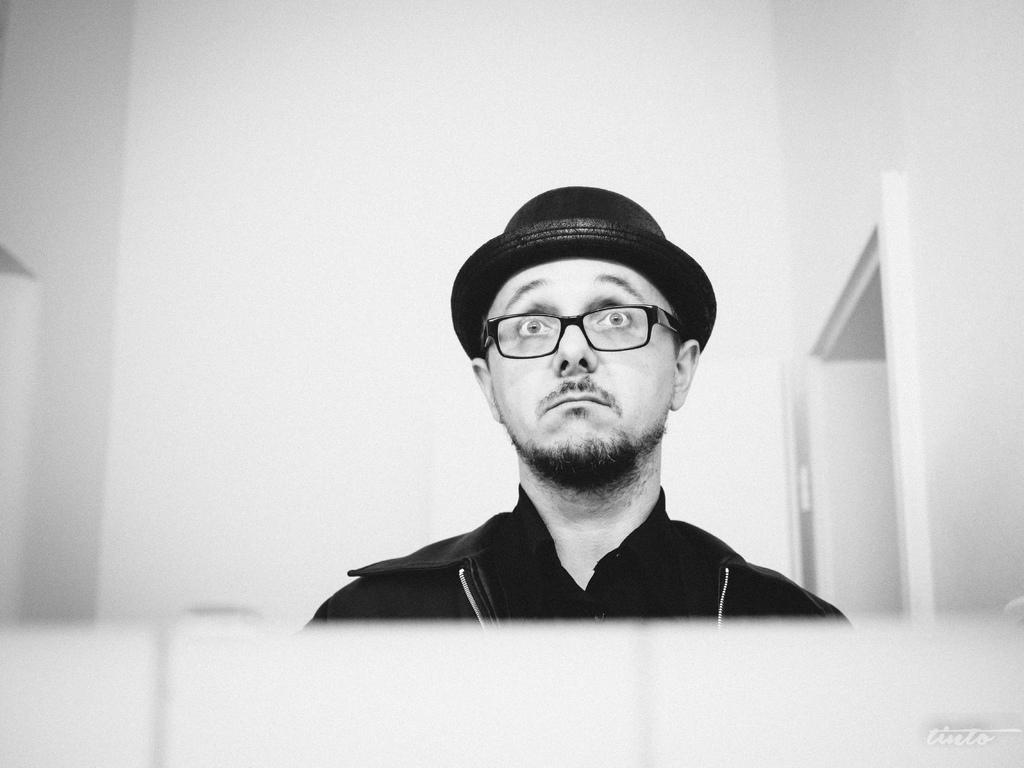Hat: (450, 184, 718, 357)
